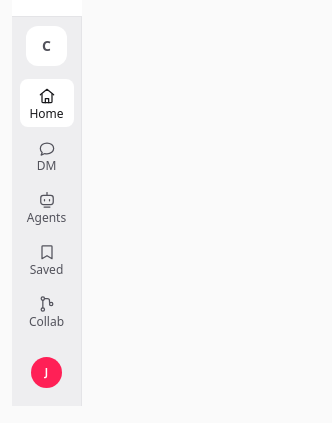
Test: 계정 메뉴 (#113) — 자리만 레일로 옮겼다 › 계정 행을 클릭하면 메뉴가 열린다
Click the button with test id "me-row" at coordinates (46, 373), box [16, 348, 76, 397]
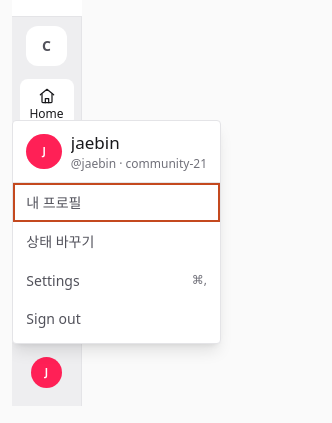
Check: the menu is shown, box [12, 120, 221, 344]
